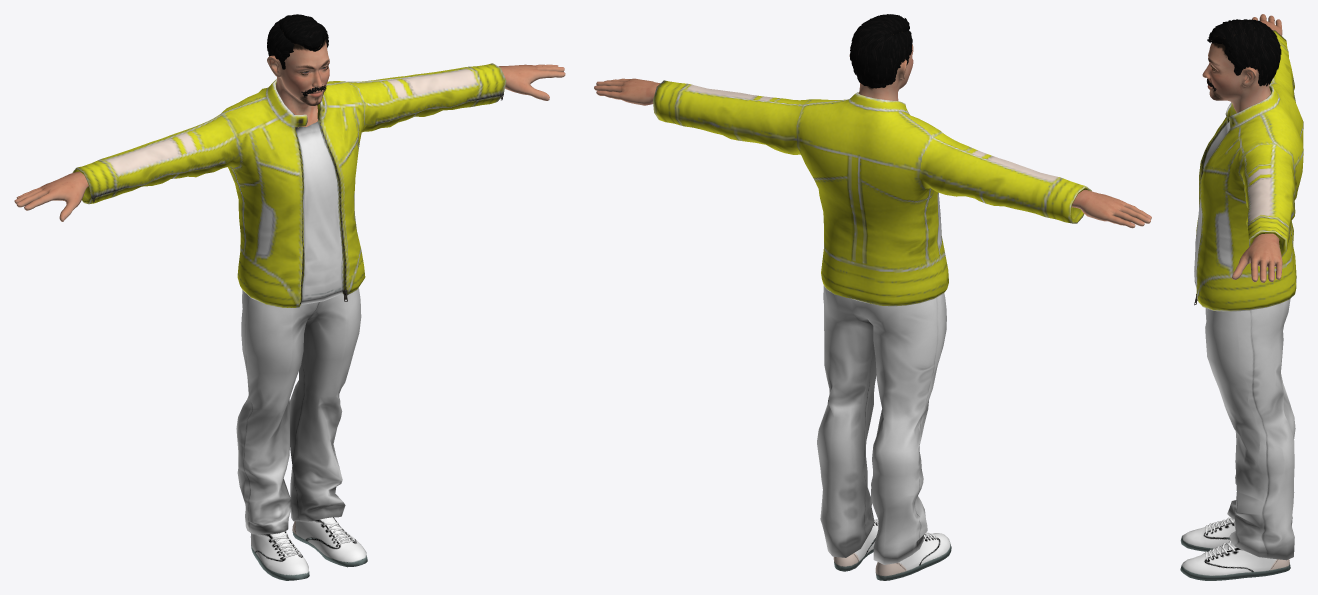
The model's file is Freddie Mercury.obj.
The picture shows the model from 3 angles, left to right: view 1: azimuth 30°, elevation 25°; view 2: azimuth 150°, elevation 25°; view 3: azimuth 270°, elevation 25°; orthographic projection.
Visible parts, largest first — view 1: Tops, Bottoms, Body, Shoes, Hair; view 2: Tops, Bottoms, Body, Hair, Shoes; view 3: Tops, Bottoms, Body, Shoes, Hair.
Part boxes in pixels (left/top/right/bottom): Tops: left=72, top=63, right=506, bottom=307; Bottoms: left=236, top=287, right=361, bottom=534; Body: left=14, top=30, right=565, bottom=221; Shoes: left=250, top=517, right=367, bottom=580; Hair: left=267, top=14, right=328, bottom=69; Tops: left=653, top=80, right=1091, bottom=306; Bottoms: left=817, top=285, right=946, bottom=564; Body: left=594, top=32, right=1151, bottom=228; Hair: left=850, top=14, right=912, bottom=88; Shoes: left=833, top=519, right=951, bottom=580; Tops: left=1194, top=30, right=1303, bottom=311; Bottoms: left=1205, top=299, right=1295, bottom=560; Body: left=1202, top=14, right=1282, bottom=282; Shoes: left=1180, top=517, right=1290, bottom=580; Hair: left=1207, top=19, right=1281, bottom=86.
Bounding box in the file's own units: 194 × 181 × 37.7.
Materials: 1 (1 with a texture image).
